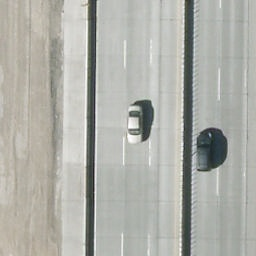car: (127, 105, 145, 144), (196, 135, 214, 171)
